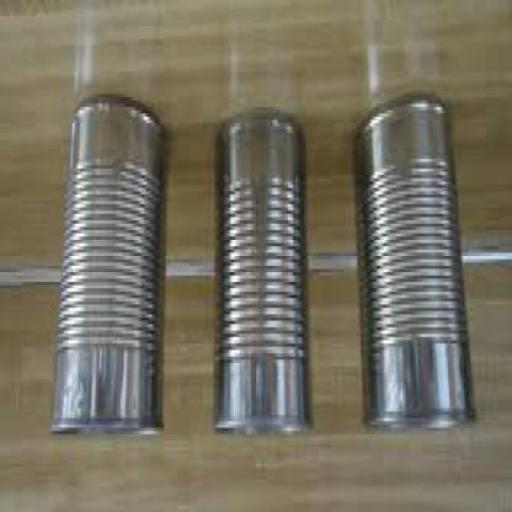metal: (359, 98, 480, 434), (52, 101, 166, 441), (213, 113, 314, 441)
